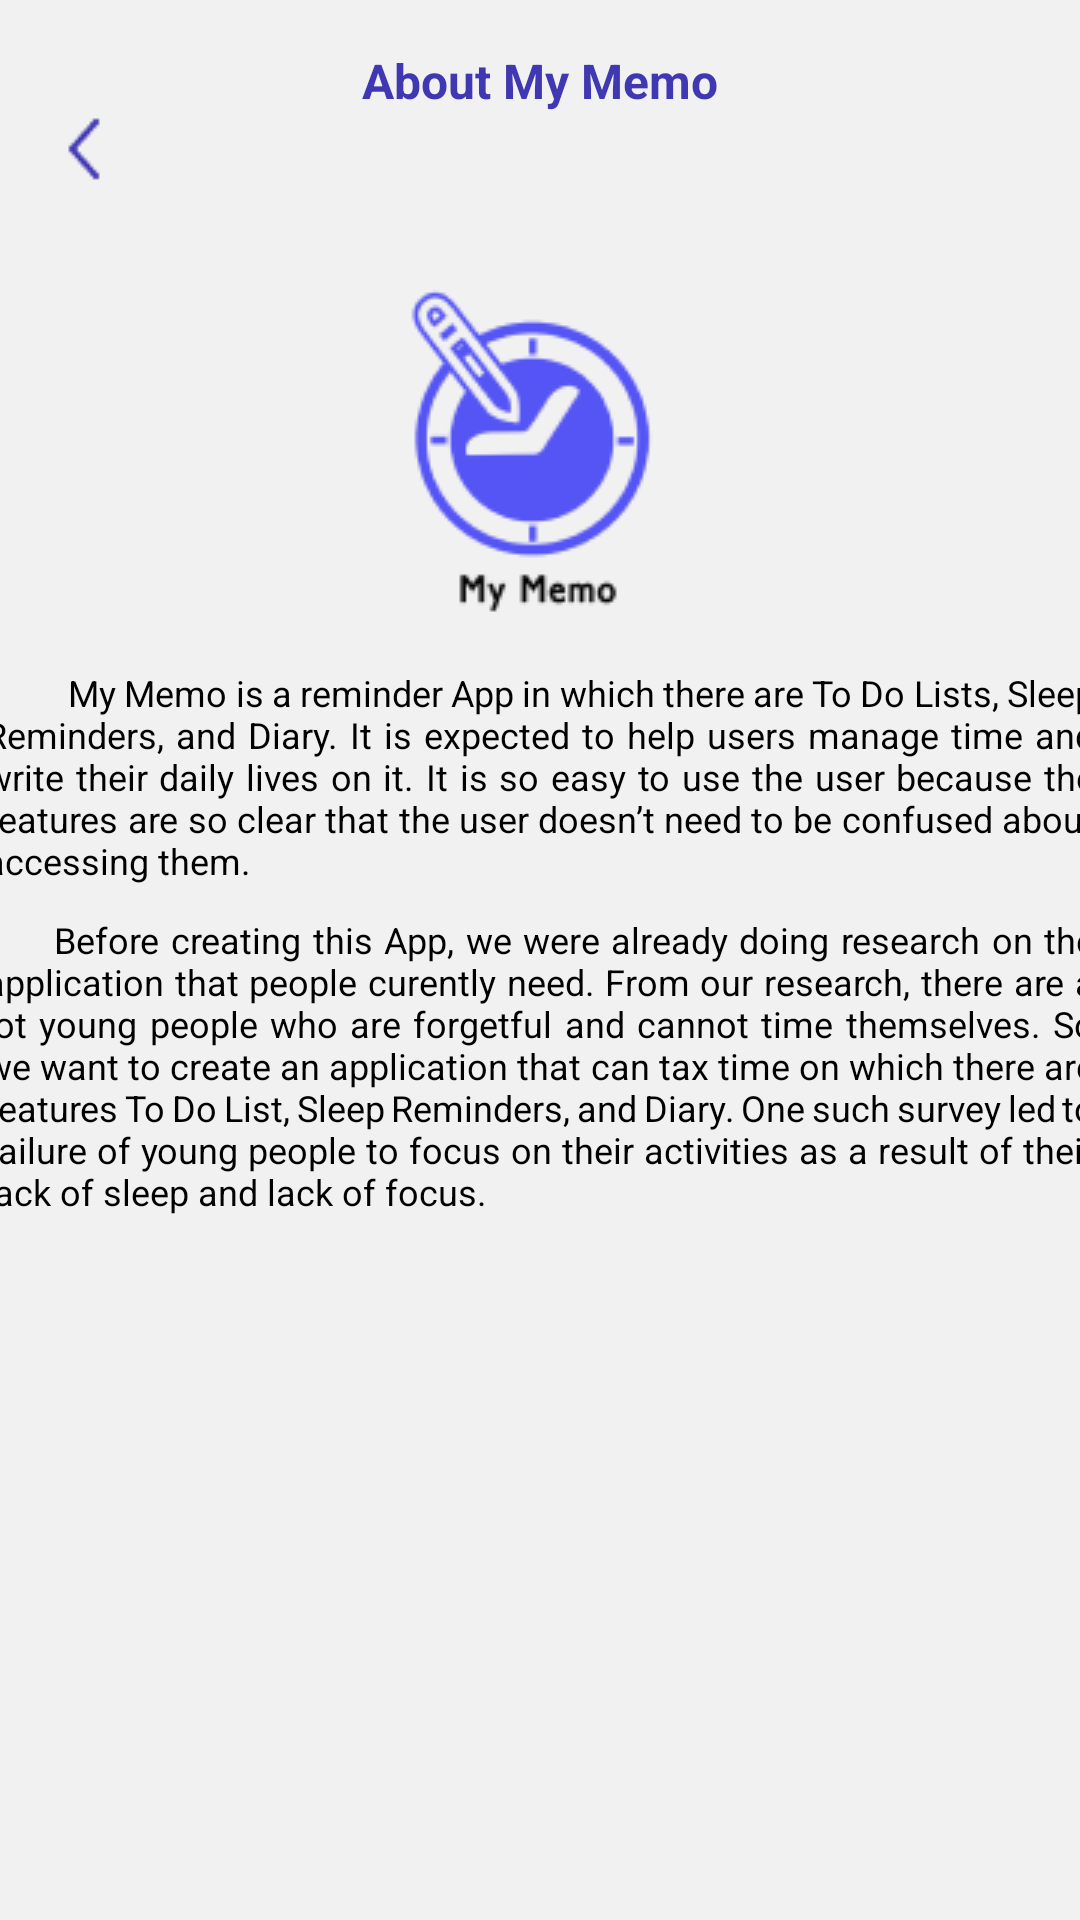

Screen size 1080px x 1920px. Icon name, then its box in pixels as (x1, y1, x2, y2):
iconpanah: (68, 118, 100, 180)
